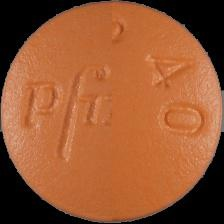0049-2340: (0, 0, 224, 224)
